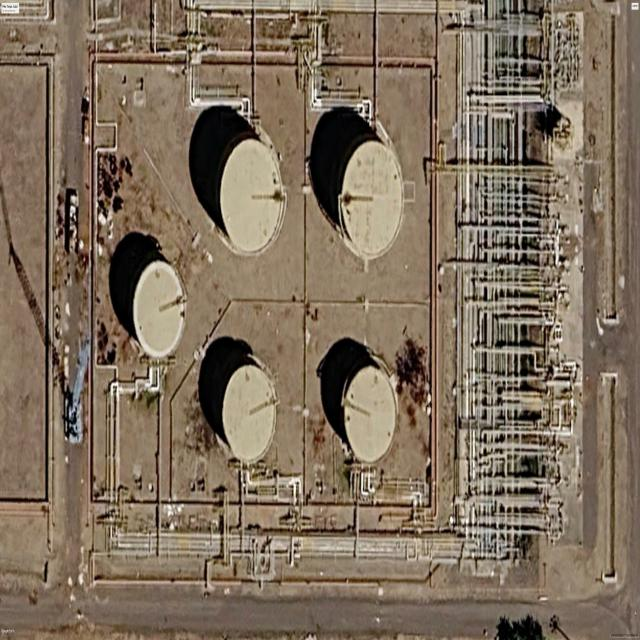Oil Rafinery: (337, 139, 404, 260), (220, 139, 286, 254), (221, 360, 278, 463), (130, 258, 186, 358), (341, 364, 397, 463)
